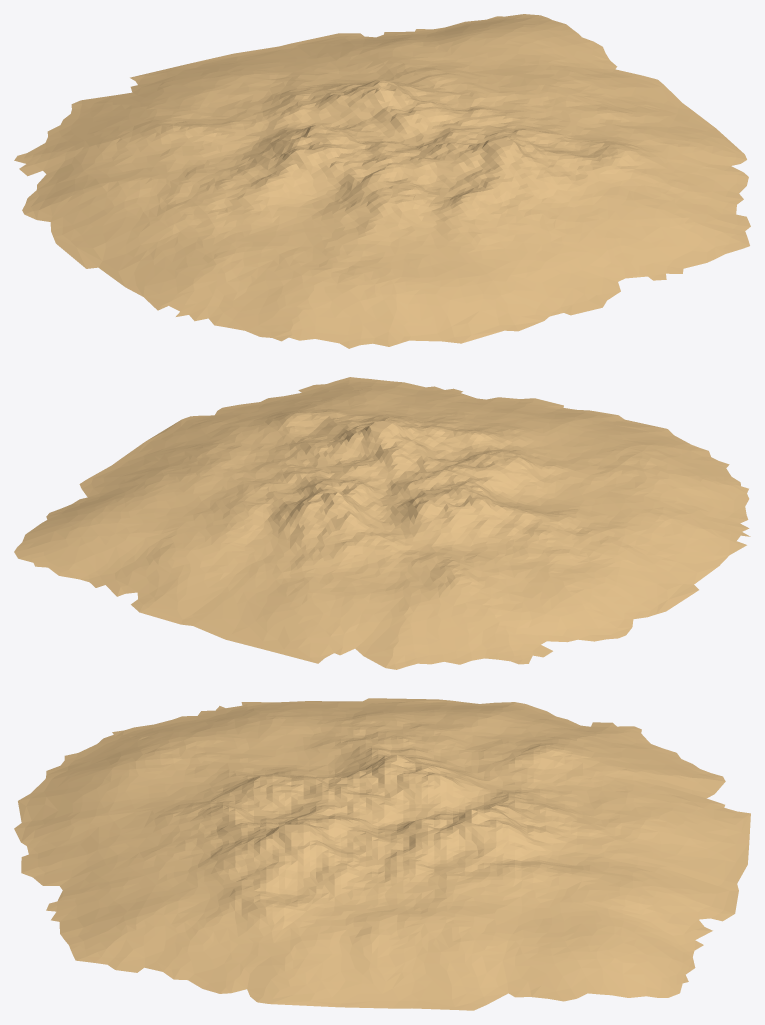
File: MT_Island_L_f_09_LOD.fbx
3 renders of one model, top to bottom at view 1: azimuth 30°, elevation 25°; view 2: azimuth 150°, elevation 25°; view 3: azimuth 270°, elevation 25°, orthographic. The views are drawn at different scales.
Visible parts, largest first — view 1: MT_Island_L_f_09_LOD0; view 2: MT_Island_L_f_09_LOD0; view 3: MT_Island_L_f_09_LOD0.
Boxes of the visible parts, x1=… form: MT_Island_L_f_09_LOD0: x1=14, y1=14, x2=750, y2=348; MT_Island_L_f_09_LOD0: x1=14, y1=377, x2=750, y2=669; MT_Island_L_f_09_LOD0: x1=14, y1=698, x2=750, y2=1010.
Size of what is drawn, in the model's own units: 18761 by 1732 by 18675.
